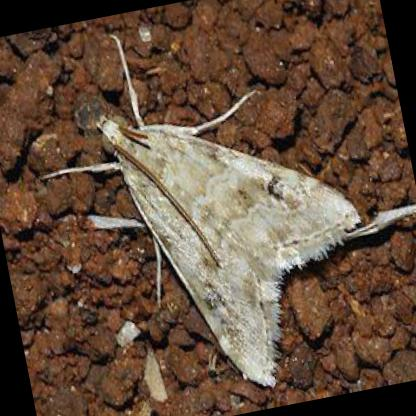Hellula undalis: (26, 32, 416, 388)
